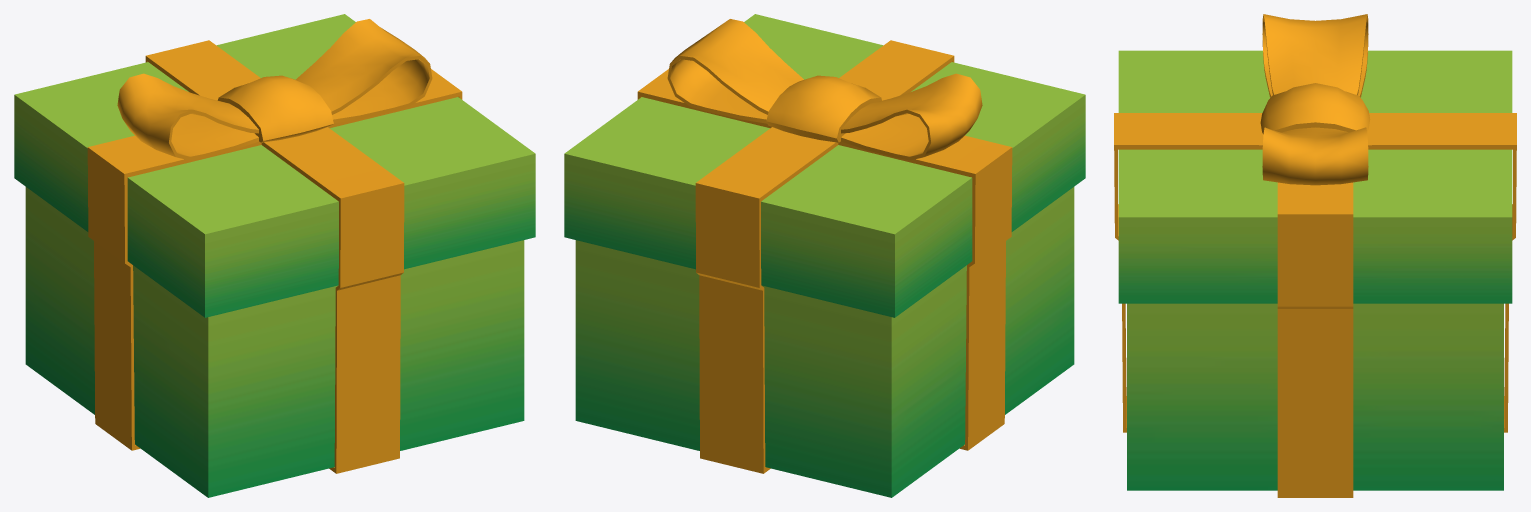
File: gift2.fbx
3 renders of one model, left to right at view 1: azimuth 30°, elevation 25°; view 2: azimuth 150°, elevation 25°; view 3: azimuth 270°, elevation 25°, orthographic. The views are drawn at different scales.
Visible parts, largest first — view 1: giftbox; view 2: giftbox; view 3: giftbox.
Part boxes in pixels (x1,y1,x2,y2): giftbox: [14, 14, 535, 497]; giftbox: [564, 14, 1085, 497]; giftbox: [1114, 14, 1516, 497].
Bounding box in the file's own units: 94.34 × 88.69 × 94.34.
1 material, 1 textured.
